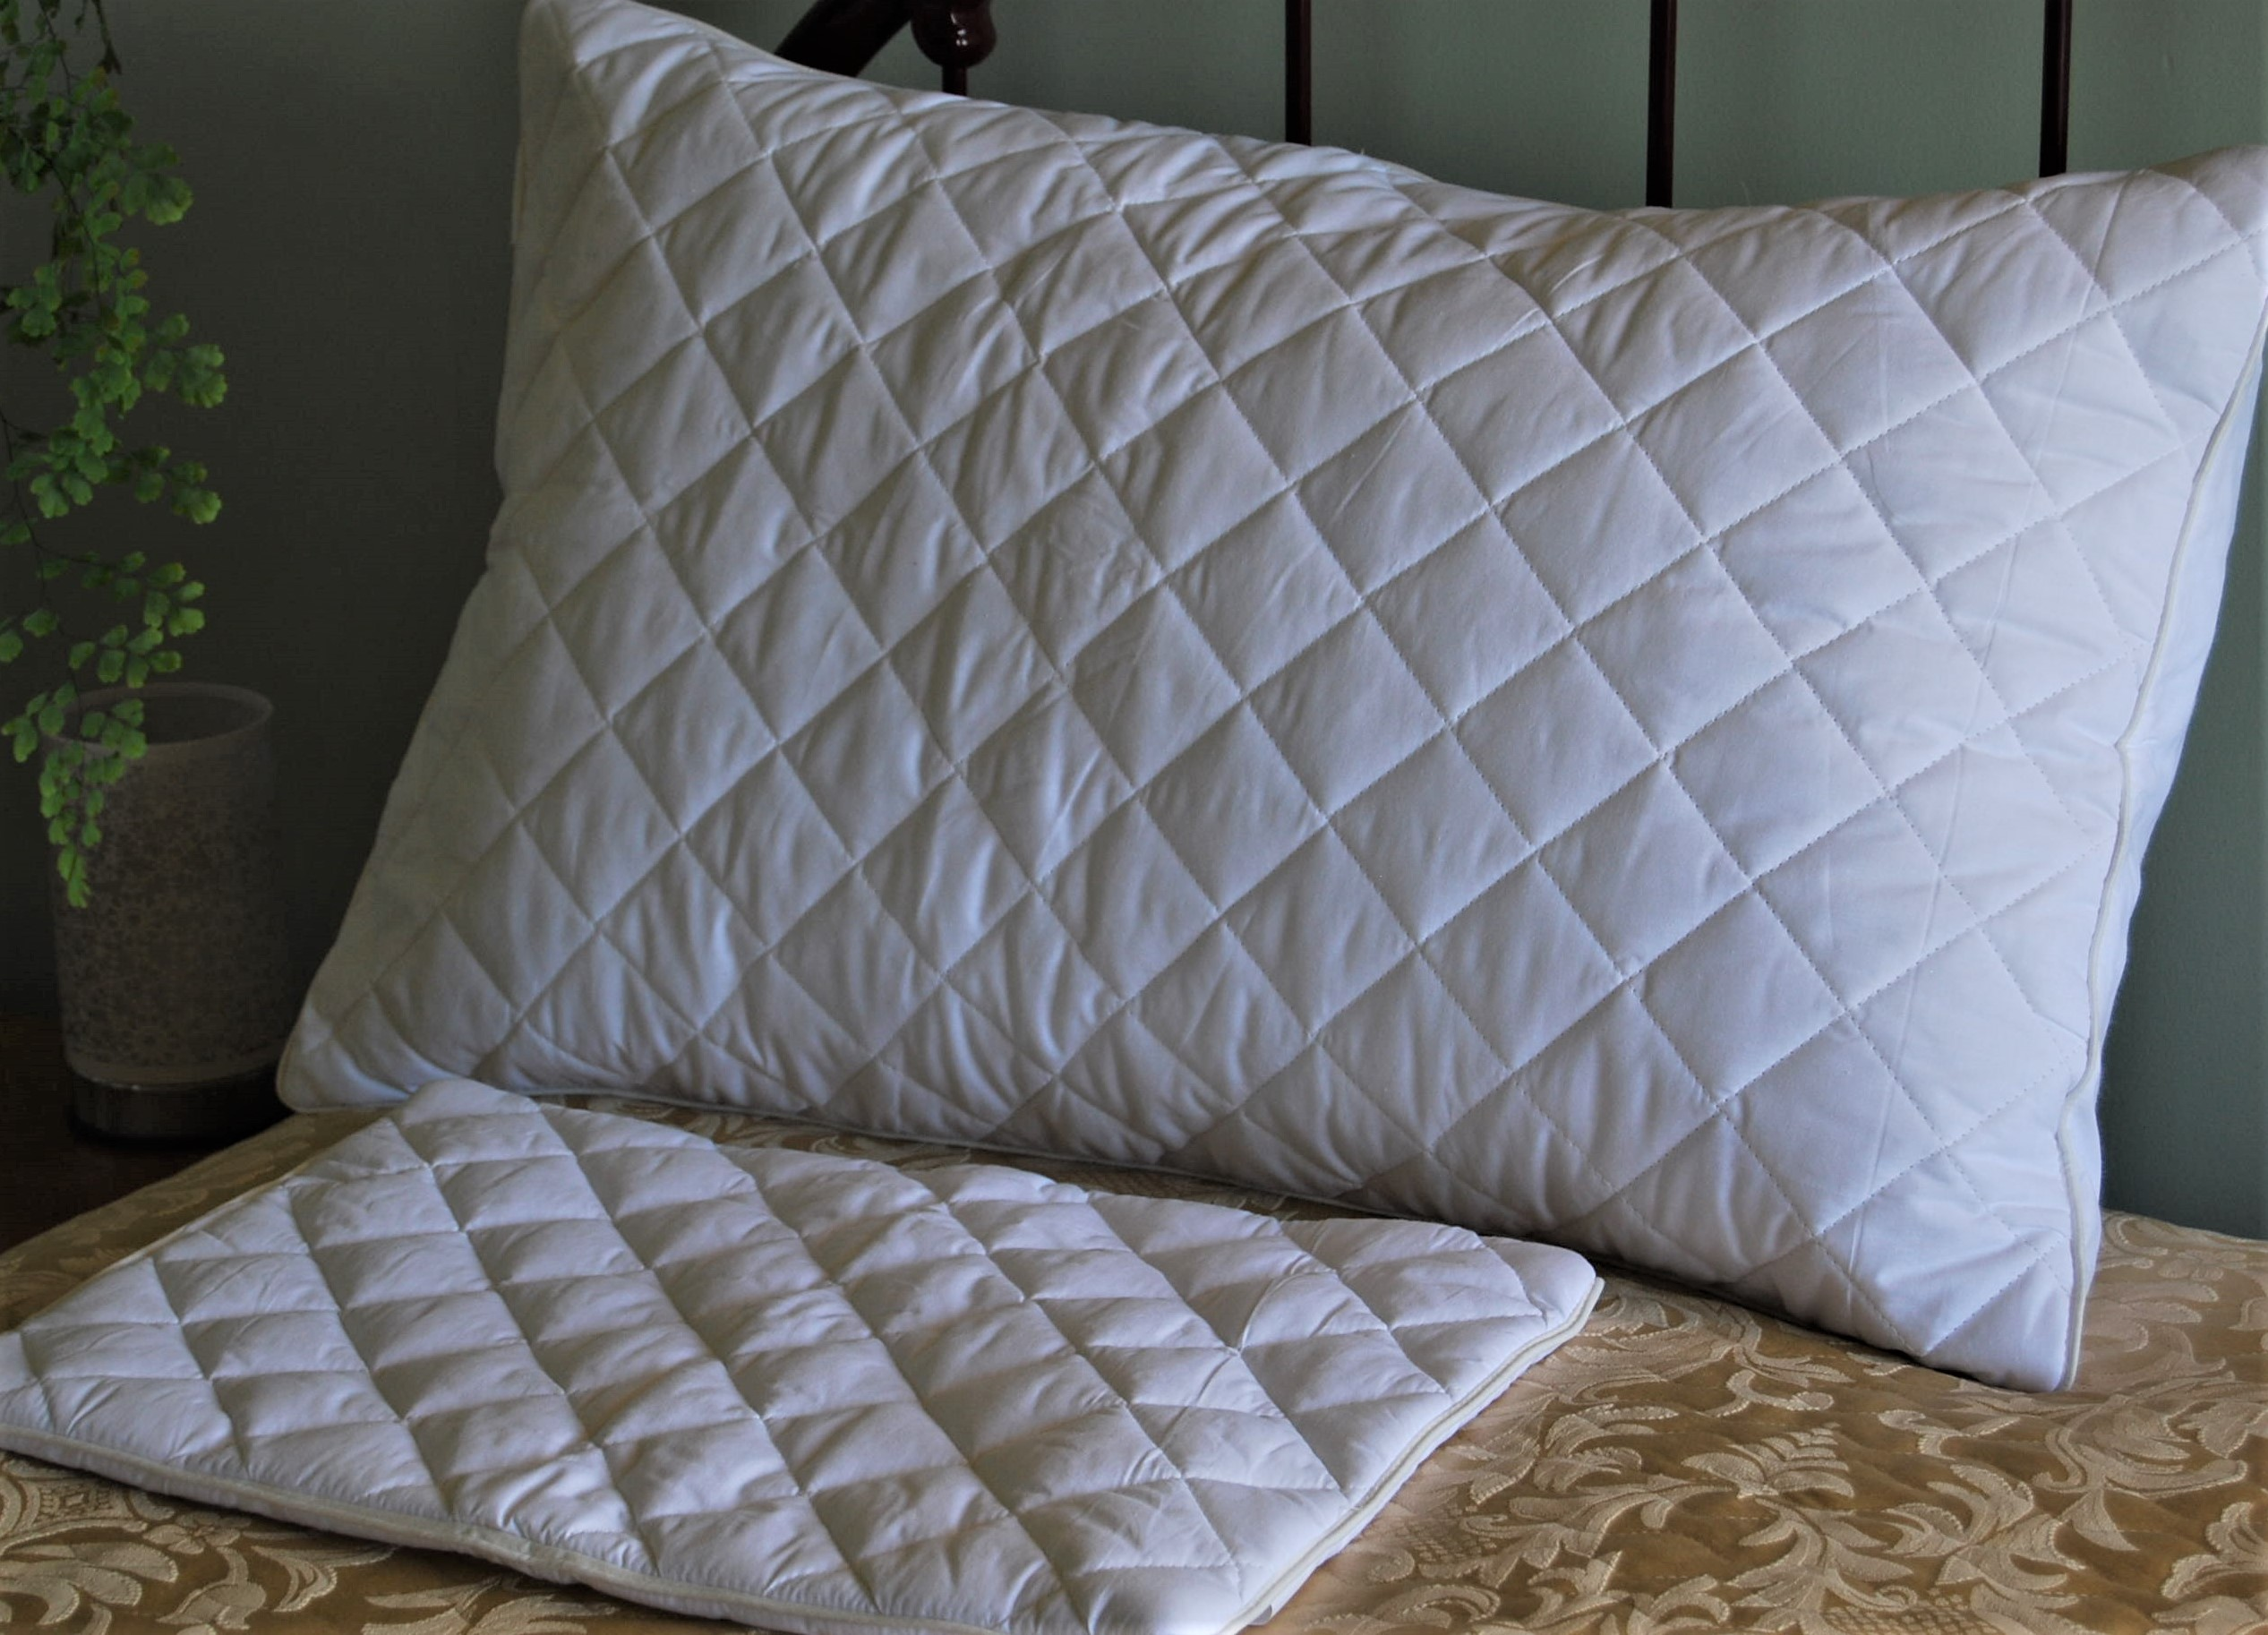bantal: (262, 11, 2268, 1378)
